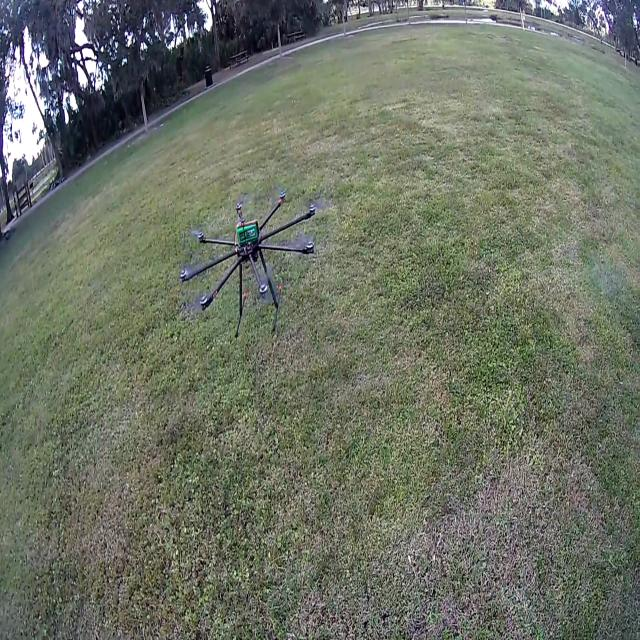drone: (171, 178, 331, 344)
